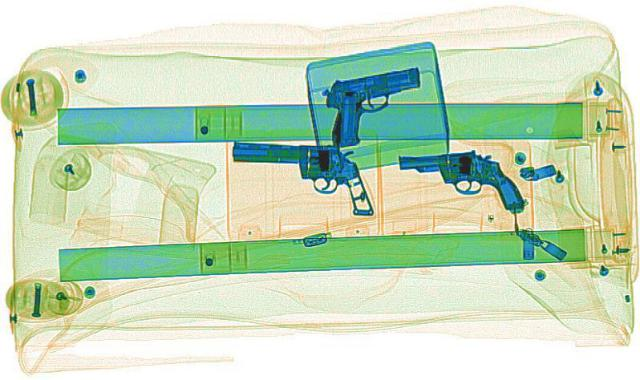Gun: (299, 65, 457, 146), (219, 138, 383, 214), (394, 147, 524, 215)
